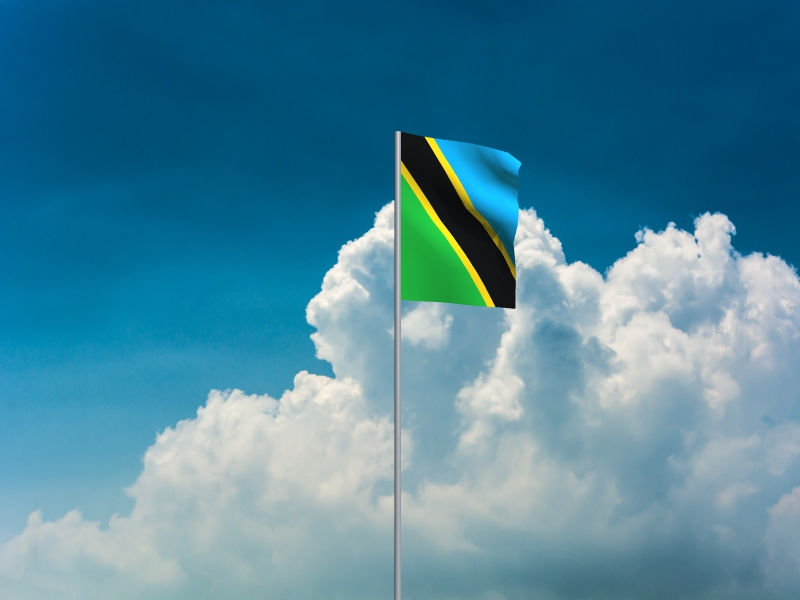tz: (401, 133, 524, 310)
